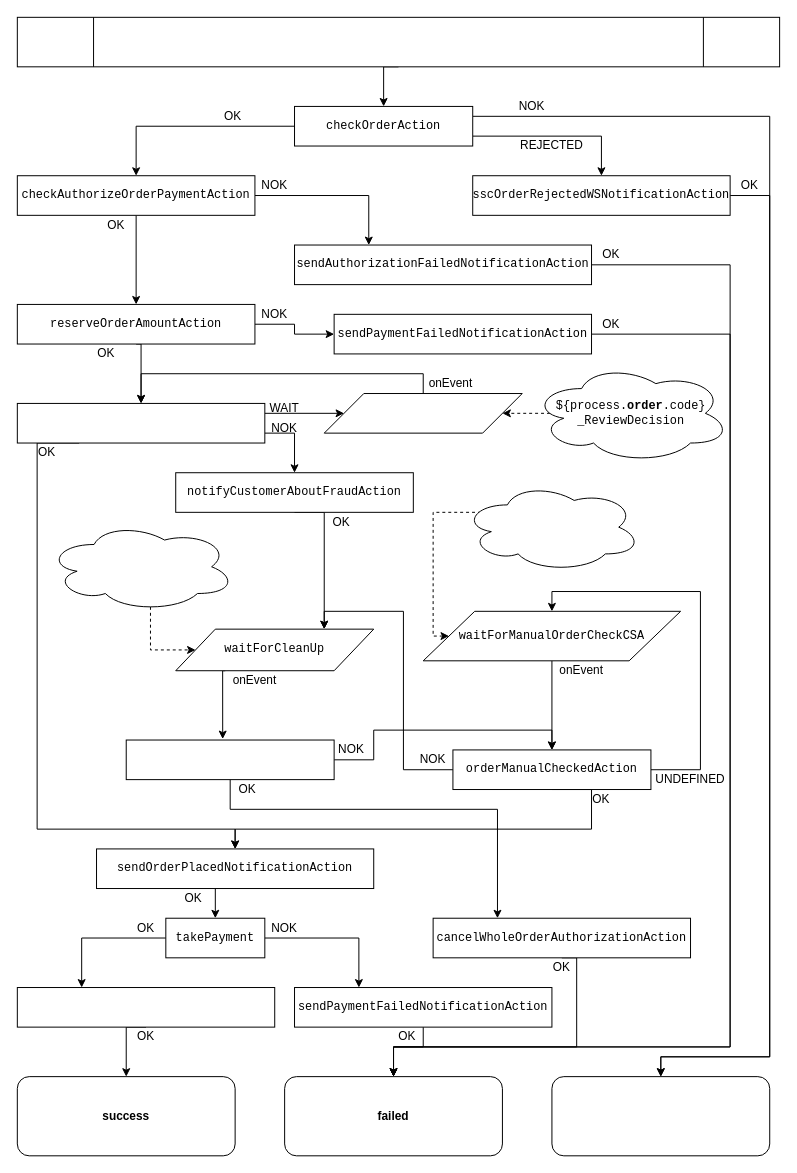
Some shapes in this 797 by 1173 pixel diagram are drawn without their labels. The shapes that lost their labels are listed below. From the top down, each one's centre as x and y in pixels, then its label:
At (x=398, y=41): "Proces: order-process (sscfulfilmentprocess)".
At (x=140, y=422): "checkTransactionReviewStatusAction".
At (x=422, y=413): "waitForReviewDecision".
At (x=551, y=527): "${process.code} _WaitForWarehouse".
At (x=140, y=566): "${process.code} _CleanUpEvent".
At (x=229, y=759): "scheduleForCleanUpAction".
At (x=145, y=1007): "sendOrderCompletedNotificationAction".
At (x=660, y=1116): "error".
